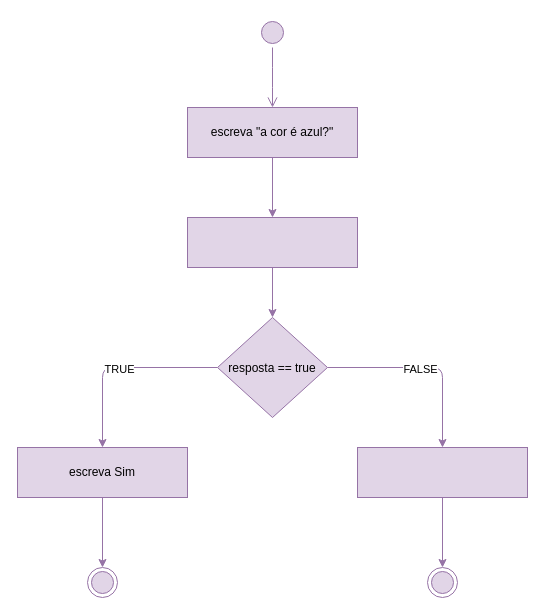
The diagram is 545 pixels wide and 615 high, and some of its shapes have lost their labels. The shapes that lost their labels are listed below. From the top down, each one's centre as x and y in pixels, then its label:
point 272,242: ler resposta
point 442,472: escreva Não
